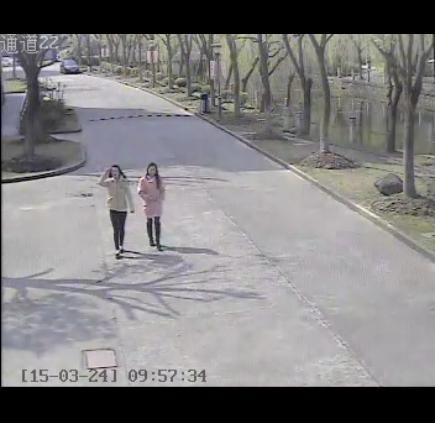person: (95, 160, 135, 261), (136, 159, 172, 255)
